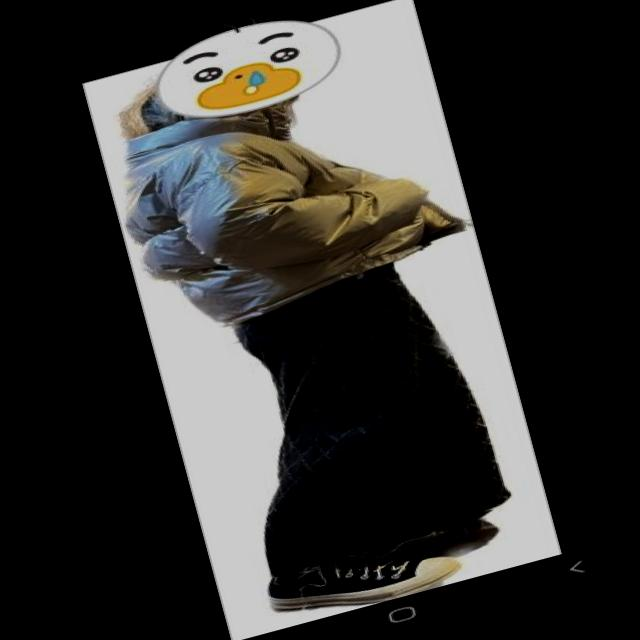padding: (114, 55, 476, 338)
skirt: (201, 239, 523, 582)
